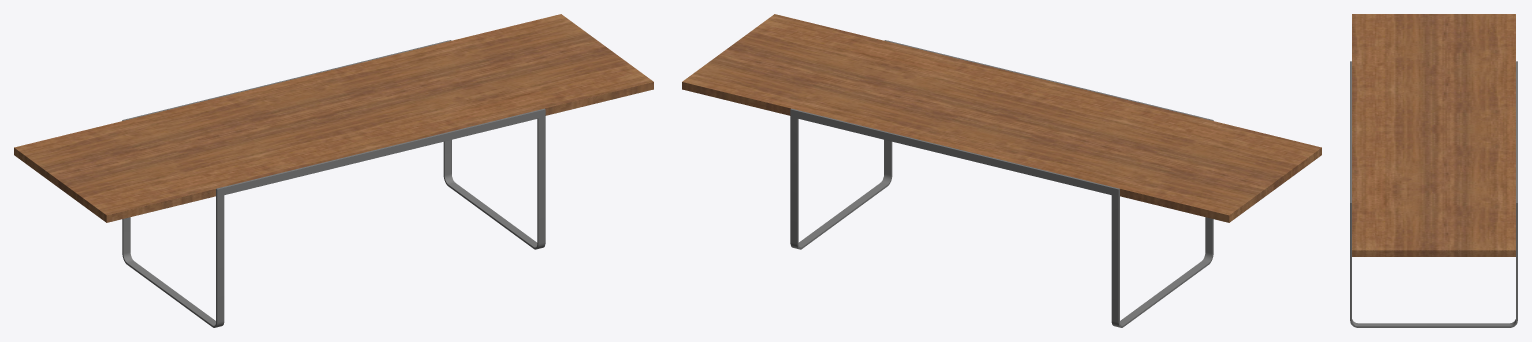
Rendered from table entière.obj.
3 views of the same model, side by side, from view 1: azimuth 30°, elevation 25°; view 2: azimuth 150°, elevation 25°; view 3: azimuth 270°, elevation 25° (orthographic). The views are drawn at different scales.
Parts seen in each view (by area): view 1: ka_design_t1; view 2: ka_design_t1; view 3: ka_design_t1.
Boxes of the visible parts, bbox=[...] form: ka_design_t1: bbox=[14, 14, 653, 327]; ka_design_t1: bbox=[682, 14, 1321, 327]; ka_design_t1: bbox=[1350, 14, 1517, 327].
Bounding box in the file's own units: 300 × 74 × 90.
